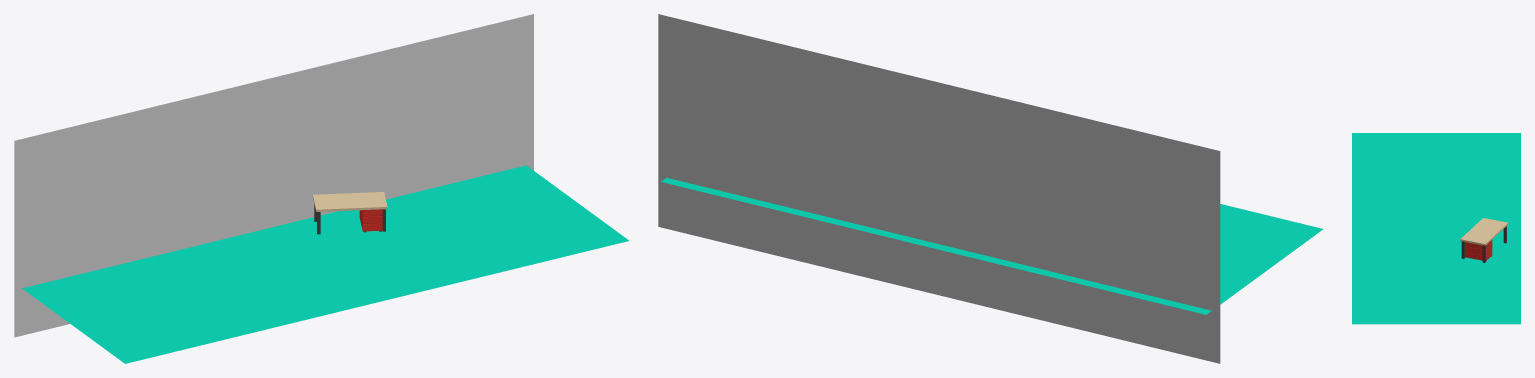
3 renders of one model, left to right at view 1: azimuth 30°, elevation 25°; view 2: azimuth 150°, elevation 25°; view 3: azimuth 270°, elevation 25°, orthographic. The views are drawn at different scales.
Parts seen in each view (by area): view 1: wall.001, floor.001, table.001; view 2: wall.001, floor.001; view 3: floor.001, table.001.
Boxes of the visible parts, x1=… form: wall.001: x1=14, y1=14, x2=533, y2=337; floor.001: x1=22, y1=165, x2=629, y2=363; table.001: x1=313, y1=192, x2=387, y2=234; wall.001: x1=658, y1=14, x2=1220, y2=363; floor.001: x1=661, y1=177, x2=1323, y2=314; floor.001: x1=1352, y1=133, x2=1520, y2=324; table.001: x1=1460, y1=218, x2=1508, y2=262.
Size of the model in its own units: 33.69 by 12.19 by 12.19.
